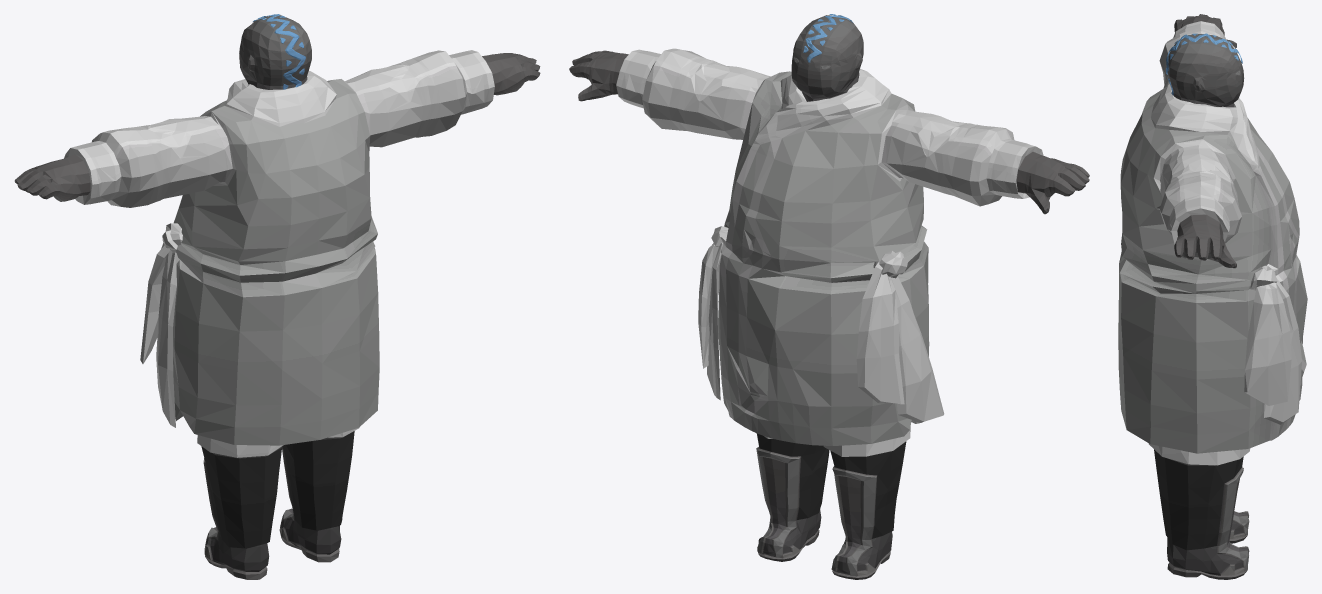
The model's file is NPC_AP25Wrap.glb.
3 renders of one model, left to right at view 1: azimuth 30°, elevation 25°; view 2: azimuth 150°, elevation 25°; view 3: azimuth 270°, elevation 25°, orthographic. The views are drawn at different scales.
Visible parts, largest first — view 1: NPC_AP25Wrap; view 2: NPC_AP25Wrap; view 3: NPC_AP25Wrap.
Part boxes in pixels (box(x1,y1,x2,y2)): NPC_AP25Wrap: box(14, 14, 540, 579); NPC_AP25Wrap: box(569, 14, 1089, 579); NPC_AP25Wrap: box(1118, 14, 1307, 579).
Bounding box in the file's own units: 14.05 × 14.03 × 4.65.
1 material, 1 textured.
